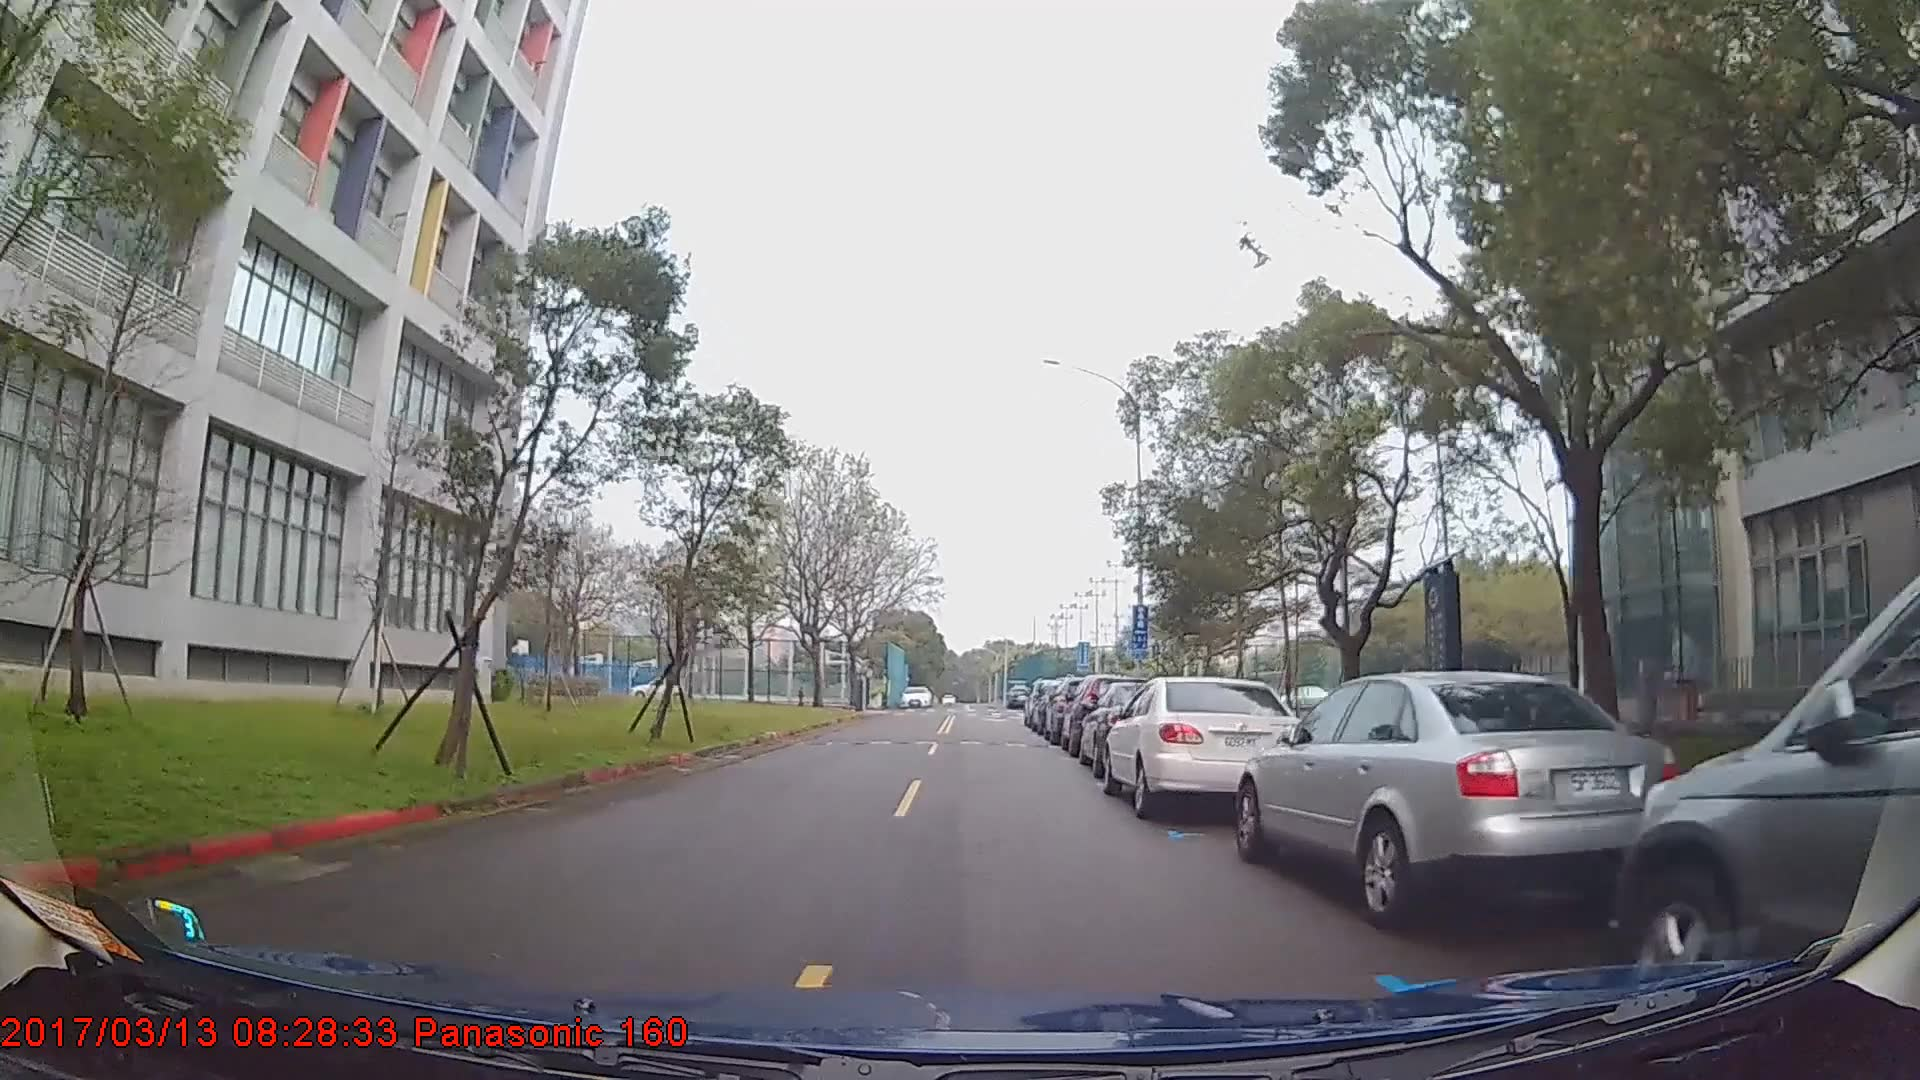vehicle: (1613, 571, 1919, 1019), (1232, 670, 1677, 931), (1101, 675, 1311, 822), (899, 684, 931, 705)
